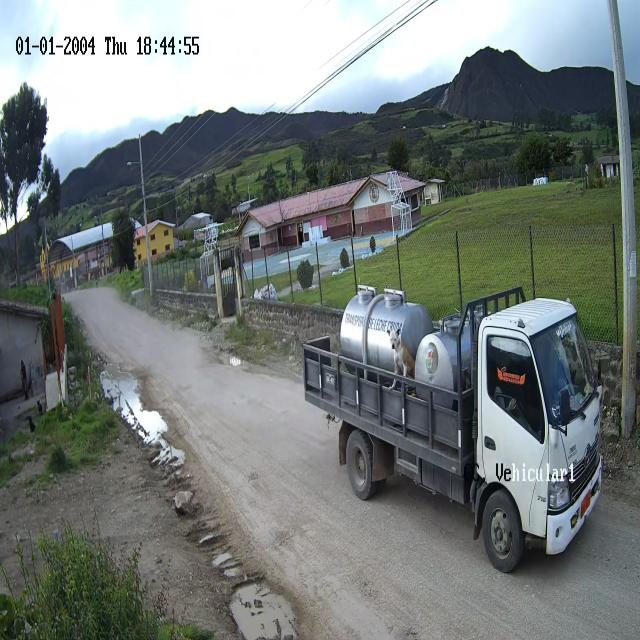TRUCK: (303, 286, 605, 574)
